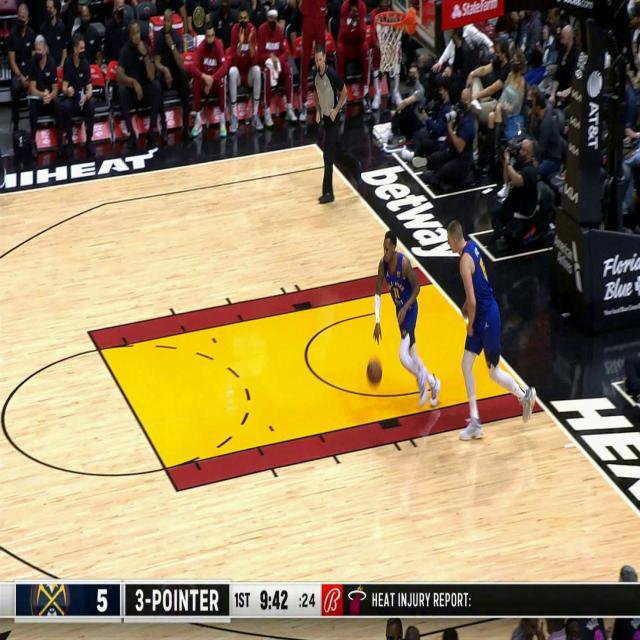rim: (366, 358, 382, 384)
